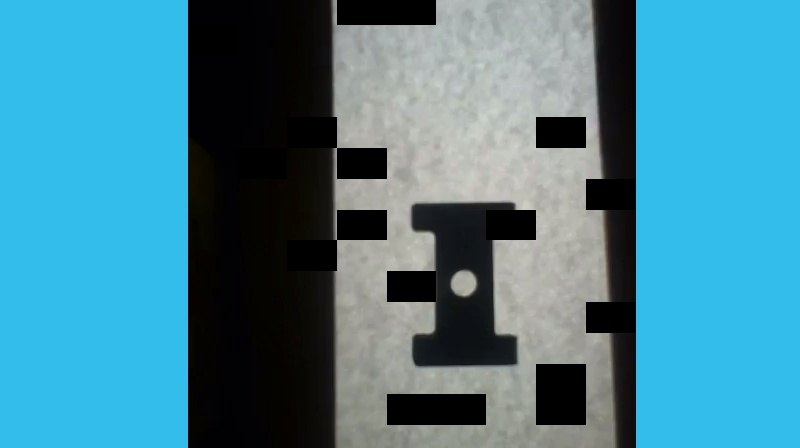O002: (407, 196, 517, 369)
